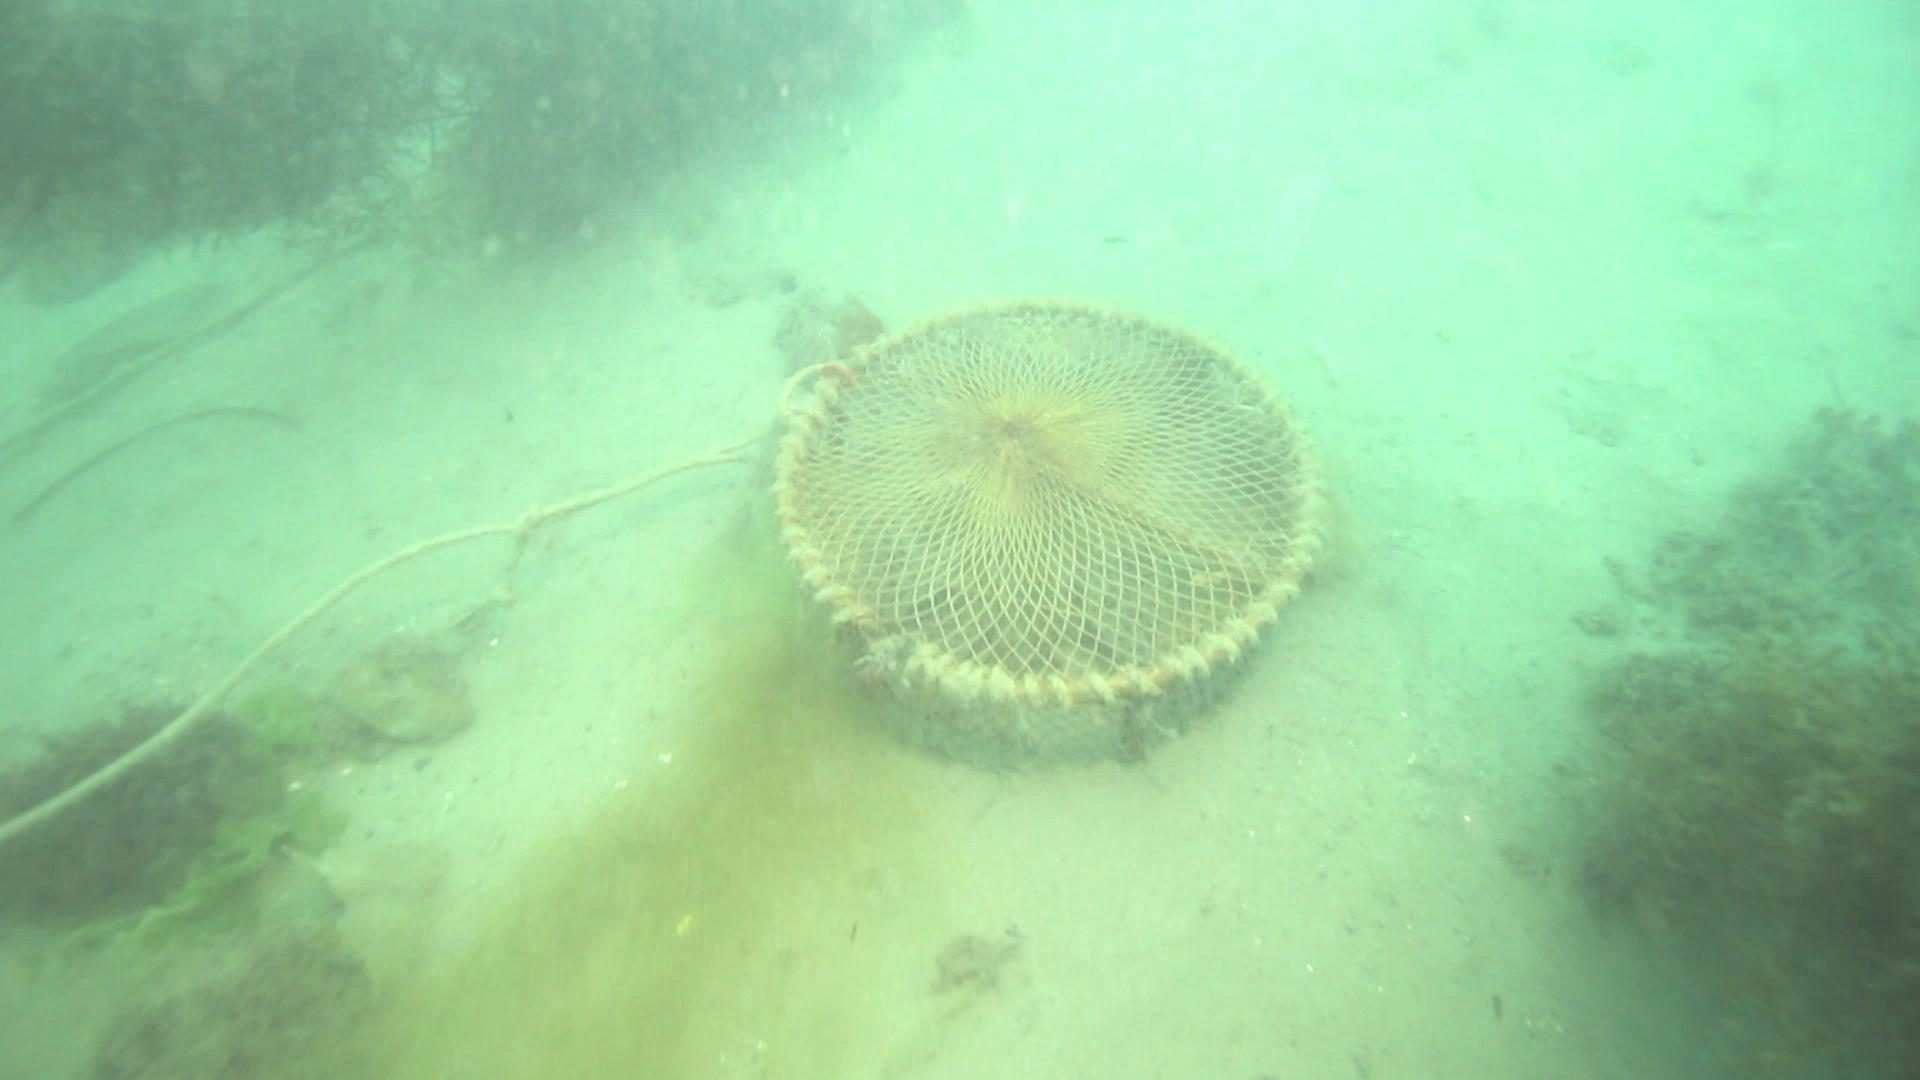bundle of ropes: (0, 357, 833, 847)
circular fish trap: (767, 290, 1327, 760)
